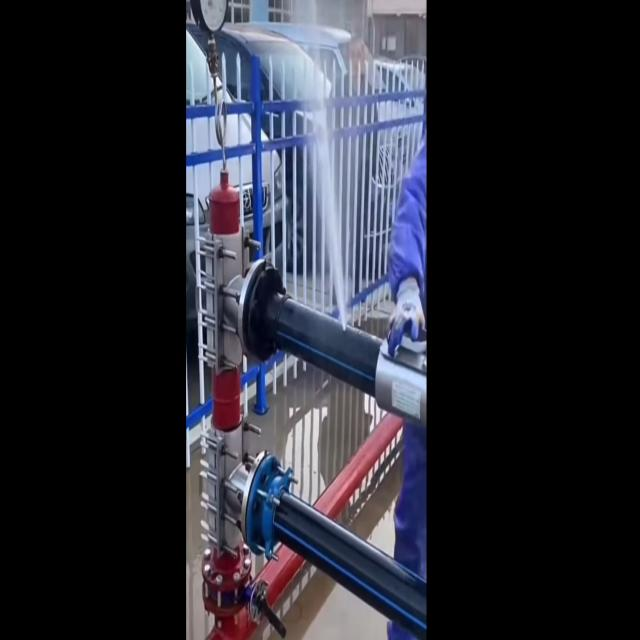leak: (314, 104, 348, 329)
